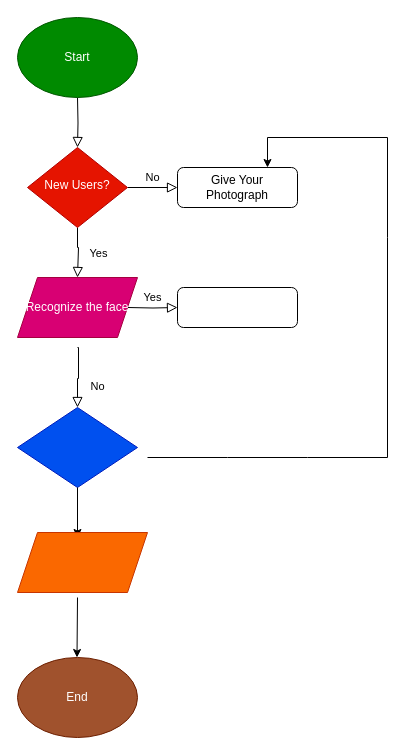
Some shapes in this 413 by 755 pixel diagram are drawn without their labels. The centre of each missing label's shape, as x and y in pixels:
Face Recognized: [77,447]
Store the Face data in folder on ypur name: [237,307]
Stored in CSV file with registration Number & Date .Time of Entry: [82,562]
